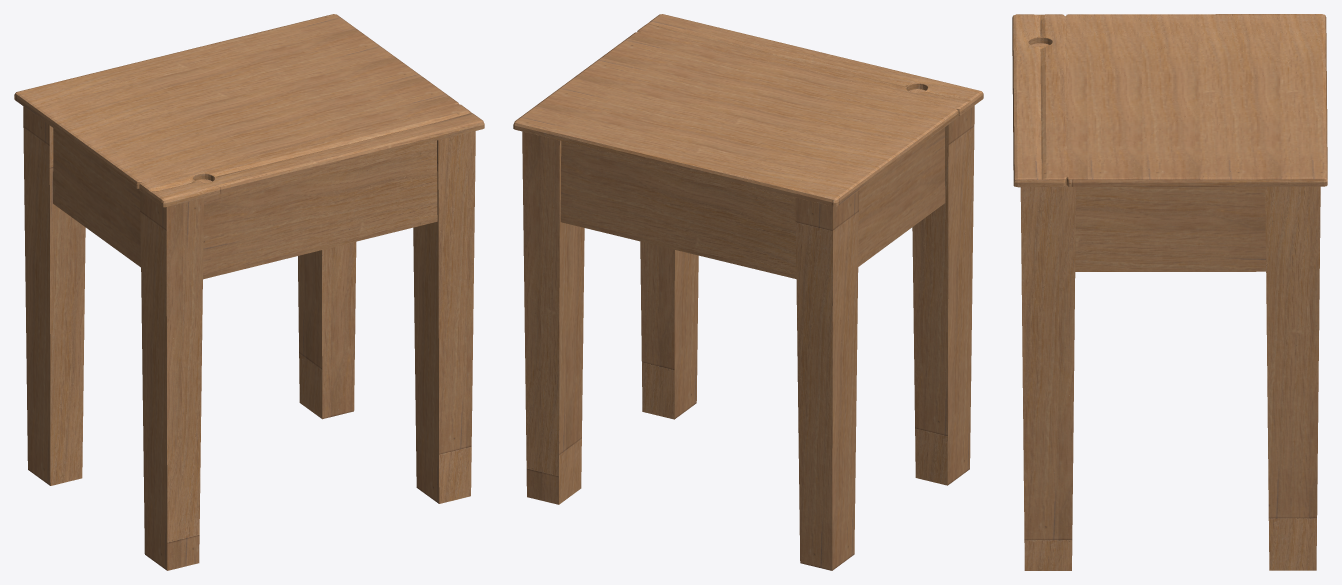
The picture shows the model from 3 angles, left to right: view 1: azimuth 30°, elevation 25°; view 2: azimuth 150°, elevation 25°; view 3: azimuth 270°, elevation 25°; orthographic projection. The views are drawn at different scales.
Visible parts, largest first — view 1: Cube.009; view 2: Cube.009; view 3: Cube.009.
Boxes of the visible parts, <box> form: Cube.009: <box>14,14,484,570</box>; Cube.009: <box>513,14,983,570</box>; Cube.009: <box>1012,14,1327,570</box>.
Bounding box in the file's own units: 9198 × 10213 × 7366.
Materials: 1 (1 with a texture image).
